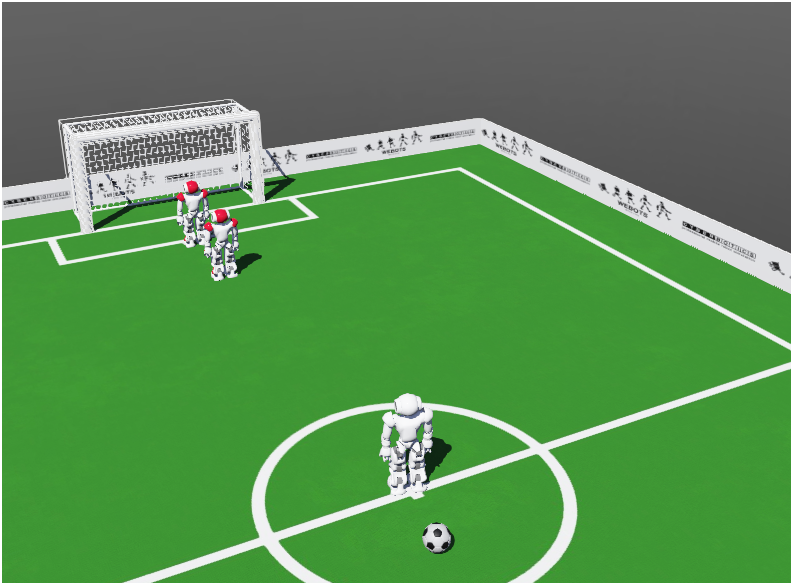Ball: (411, 515, 475, 561)
Goal: (63, 77, 276, 253)
Player: (360, 376, 463, 532), (207, 204, 246, 292), (171, 182, 215, 253)
